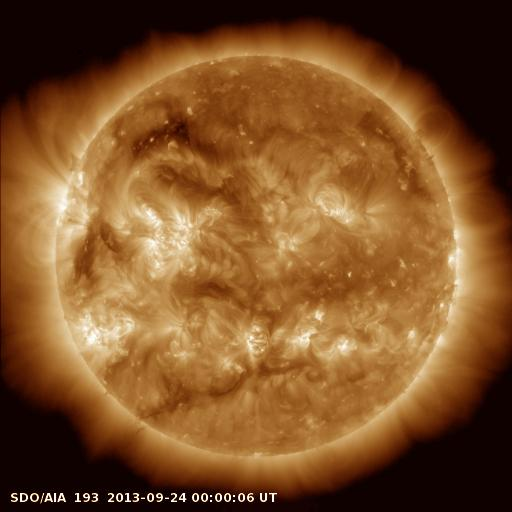coronal_hole: (119, 114, 203, 157)
